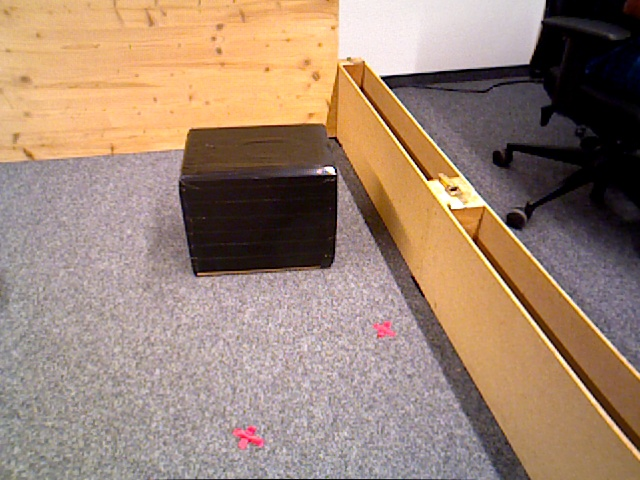push: (186, 130, 337, 276)
